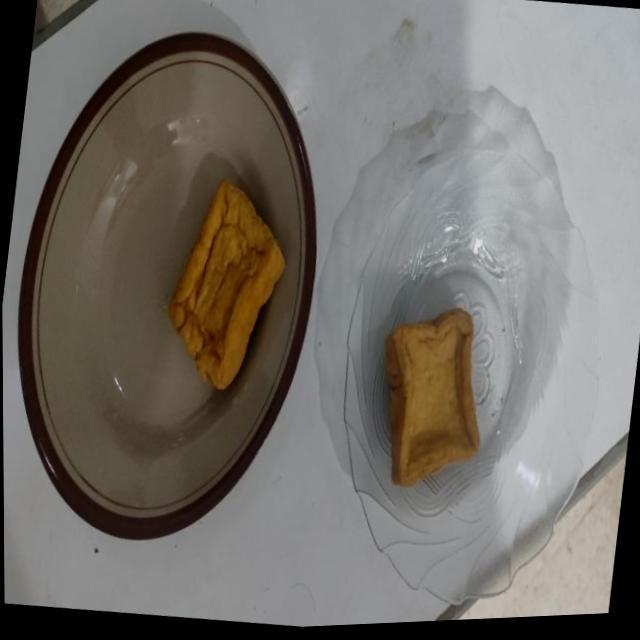tahu_goreng: (168, 180, 284, 389), (384, 308, 480, 487)
